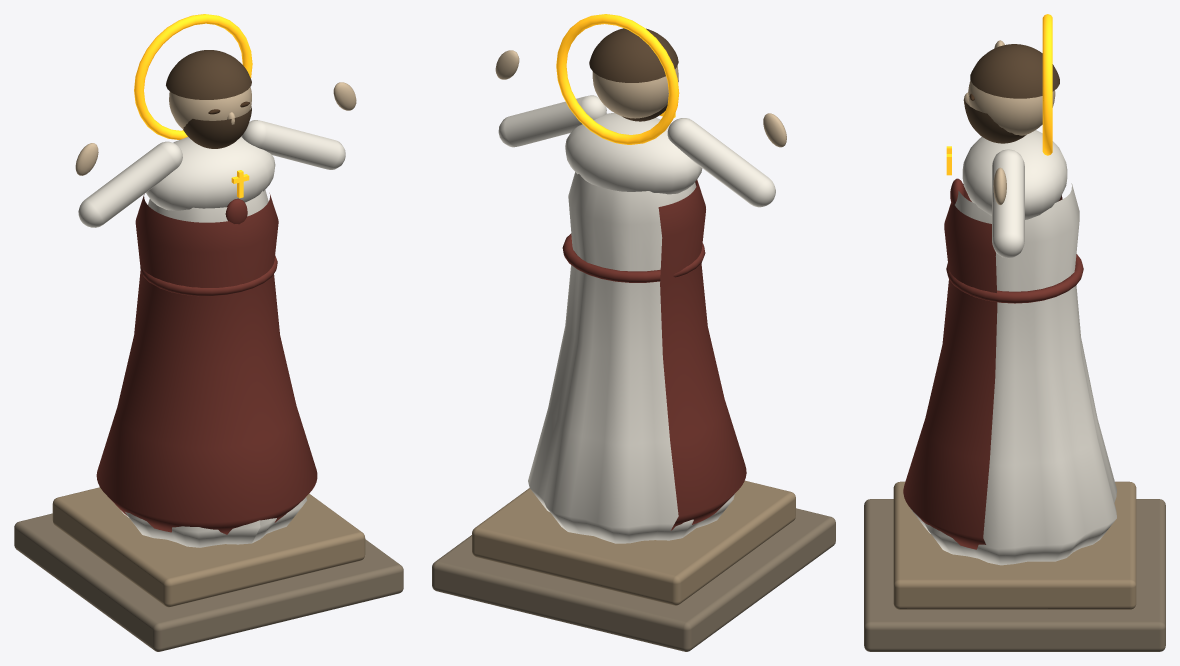
The model's file is statue-christ.glb.
3 views of the same model, side by side, from view 1: azimuth 30°, elevation 25°; view 2: azimuth 150°, elevation 25°; view 3: azimuth 270°, elevation 25° (orthographic). The views are drawn at different scales.
Parts seen in each view (by area): view 1: Cloak, PlinthLow, PlinthTop, Arm (×2), Shoulders, Robe, Hair, object 20, Head, Beard, object 5; view 2: Robe, PlinthLow, PlinthTop, Cloak, Shoulders, Arm (×2), object 20, Hair, Head, object 5, Hand; view 3: Robe, Cloak, PlinthLow, PlinthTop, Shoulders, Hair, Arm, Head, object 5, object 20, Beard.
Part boxes in pixels (<box>): Cloak: <box>96,193,317,534</box>; PlinthLow: <box>14,513,403,651</box>; PlinthTop: <box>52,487,365,607</box>; Arm (×2): <box>78,120,345,227</box>; Shoulders: <box>146,136,275,211</box>; Robe: <box>121,190,306,547</box>; Hair: <box>166,50,251,99</box>; object 20: <box>134,14,252,139</box>; Head: <box>169,87,251,128</box>; Beard: <box>183,106,251,148</box>; object 5: <box>140,255,277,296</box>; Robe: <box>528,172,734,543</box>; PlinthLow: <box>432,508,835,651</box>; PlinthTop: <box>472,480,795,605</box>; Cloak: <box>658,179,746,530</box>; Shoulders: <box>565,113,702,194</box>; Arm (×2): <box>498,95,775,207</box>; object 20: <box>556,14,679,144</box>; Hair: <box>589,28,678,82</box>; Head: <box>592,66,678,118</box>; object 5: <box>562,233,705,282</box>; Hand: <box>763,113,786,147</box>; Robe: <box>909,183,1116,565</box>; Cloak: <box>903,184,1062,549</box>; PlinthLow: <box>864,499,1165,651</box>; PlinthTop: <box>893,481,1136,609</box>; Shoulders: <box>962,130,1067,219</box>; Hair: <box>970,44,1059,98</box>; Arm: <box>992,149,1024,258</box>; Head: <box>968,80,1055,135</box>; object 5: <box>946,254,1083,303</box>; object 20: <box>1042,14,1052,155</box>; Beard: <box>964,99,1025,143</box>.
Bounding box in the file's own units: 1.03 × 1.92 × 0.92.
